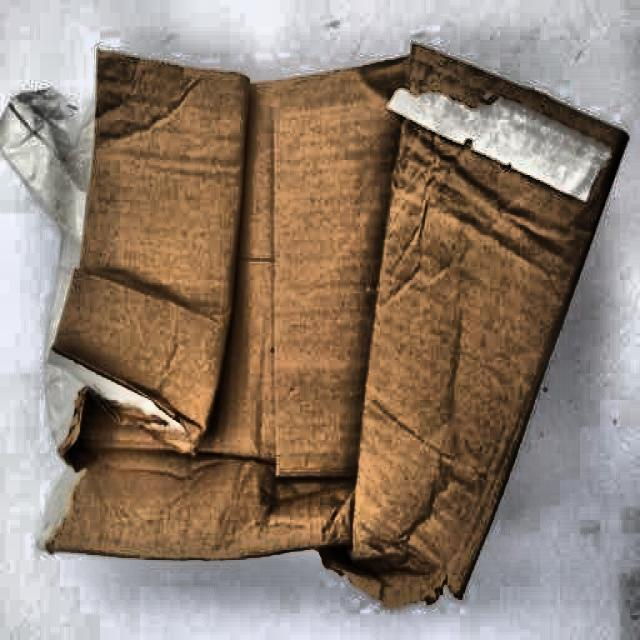cardboard: (4, 41, 630, 605)
